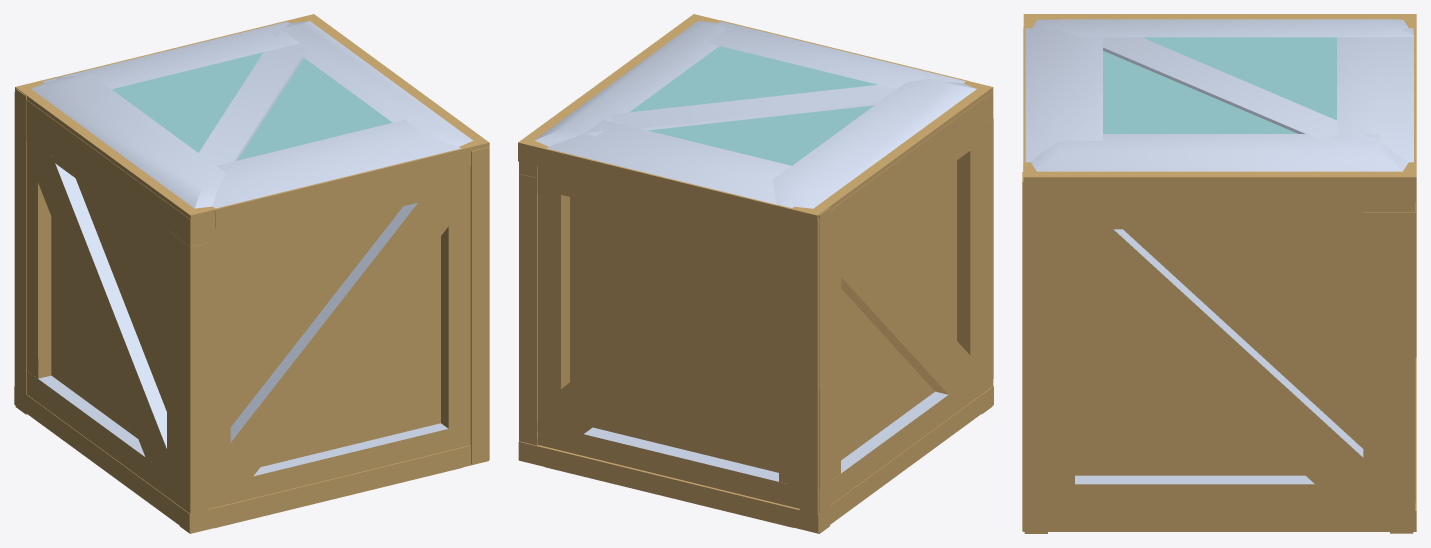
File: box_snow.fbx
3 views of the same model, side by side, from view 1: azimuth 30°, elevation 25°; view 2: azimuth 150°, elevation 25°; view 3: azimuth 270°, elevation 25° (orthographic). The views are drawn at different scales.
Parts seen in each view (by area): view 1: BOX BROUN.005, BOX BROUN.003, BOX BROUN.001, BOX BROUN.004, BOX BROUN.002, BOX BROUN.006; view 2: BOX BROUN.006, BOX BROUN.003, BOX BROUN.001, BOX BROUN.004, BOX BROUN.002; view 3: BOX BROUN.002, BOX BROUN.003, BOX BROUN.005, BOX BROUN.004.
Part boxes in pixels (bbox=[...]): BOX BROUN.005: bbox=[179, 166, 488, 533]; BOX BROUN.003: bbox=[15, 14, 489, 229]; BOX BROUN.001: bbox=[14, 91, 208, 532]; BOX BROUN.004: bbox=[14, 385, 470, 532]; BOX BROUN.002: bbox=[470, 147, 489, 464]; BOX BROUN.006: bbox=[15, 88, 26, 414]; BOX BROUN.006: bbox=[538, 166, 829, 533]; BOX BROUN.003: bbox=[518, 14, 993, 234]; BOX BROUN.001: bbox=[799, 91, 993, 532]; BOX BROUN.004: bbox=[518, 386, 993, 533]; BOX BROUN.002: bbox=[519, 161, 537, 445]; BOX BROUN.002: bbox=[1022, 172, 1415, 531]; BOX BROUN.003: bbox=[1023, 14, 1416, 198]; BOX BROUN.005: bbox=[1024, 198, 1047, 533]; BOX BROUN.004: bbox=[1024, 357, 1416, 531].
Size of the model in its own units: 4.51 by 4.72 by 4.59.
